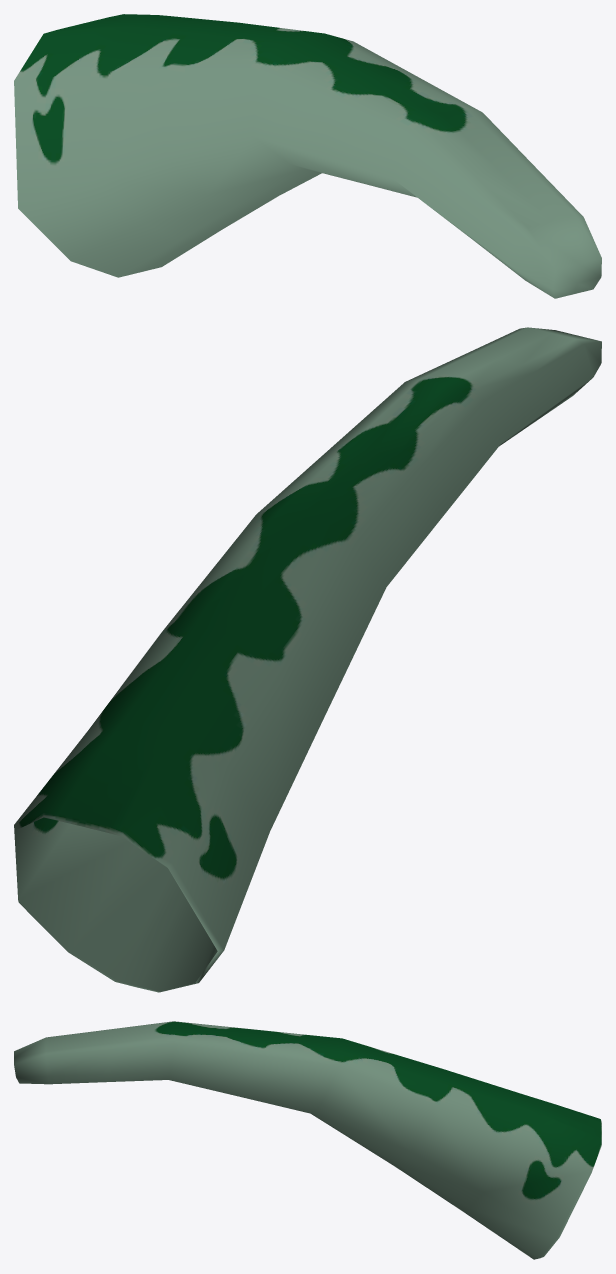
File: Cola.obj
3 views of the same model, one above another, from view 1: azimuth 30°, elevation 25°; view 2: azimuth 150°, elevation 25°; view 3: azimuth 270°, elevation 25° (orthographic). The views are drawn at different scales.
Visible parts, largest first — view 1: Cola_polySurface37polySurface36polySurface24polySurface12polySur; view 2: Cola_polySurface37polySurface36polySurface24polySurface12polySur; view 3: Cola_polySurface37polySurface36polySurface24polySurface12polySur.
Boxes of the visible parts, x1,y1,x2,y2 form: Cola_polySurface37polySurface36polySurface24polySurface12polySur: (14,14,601,298); Cola_polySurface37polySurface36polySurface24polySurface12polySur: (14,327,601,992); Cola_polySurface37polySurface36polySurface24polySurface12polySur: (14,1021,601,1259).
Bounding box in the file's own units: 0.8817 × 1.55 × 3.68.
Materials: 1 (1 with a texture image).
